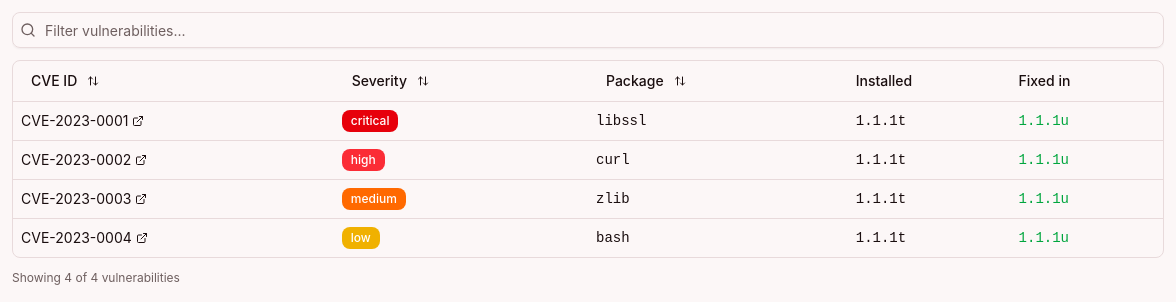
Scenario: ScanResultsTable › filters by CVE ID when typing in search box
This screenshot has width=1176, height=302.
Type "CVE-2023-0001" into the field with placeholder "Filter vulnerabilities..." at (588, 30), box [12,12,1164,48]
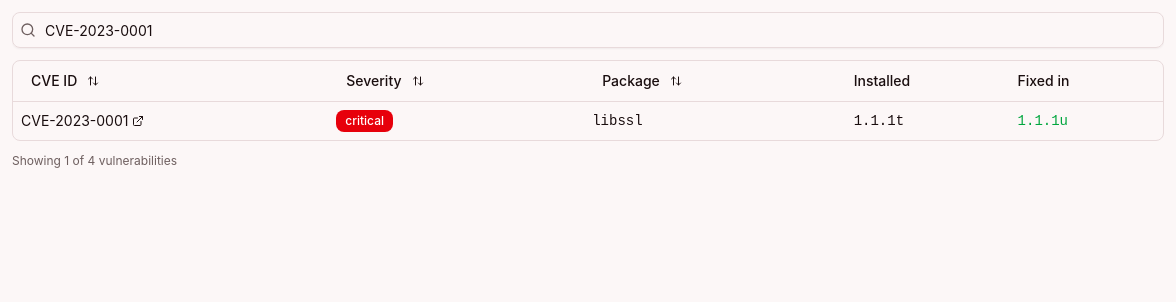
Expected: the link "CVE-2023-0001" is shown, [21,110,144,130]
Now the link "CVE-2023-0002" is gone
Now the text "Showing 1 of 4 vulnerabilities" is shown, box [12,152,177,168]
